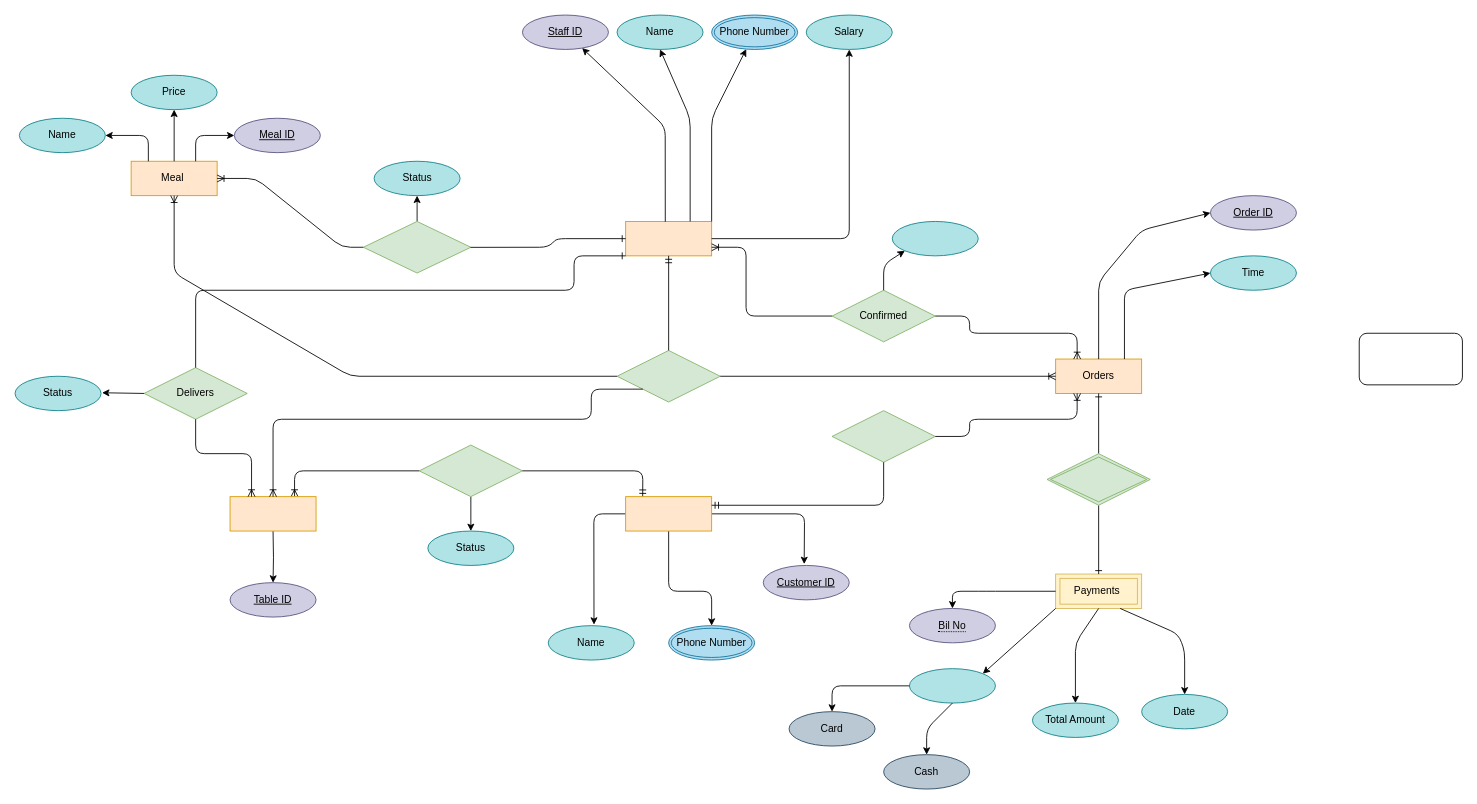
This 1477x804 diagram has some shape labels left out. Here are the shapes that lost their labels. From the top down, the centre of each, then its label:
At point 416,247: "Prepares".
At point 668,238: "Staff".
At point 934,238: "Assigned".
At point 668,376: "Manages".
At point 1410,358: "K Srikanth 17ETCS002124".
At point 883,436: "Places".
At point 470,470: "Book".
At point 1098,479: "Proceeds".
At point 272,513: "Table".
At point 668,513: "Customer".
At point 952,685: "Mode".
